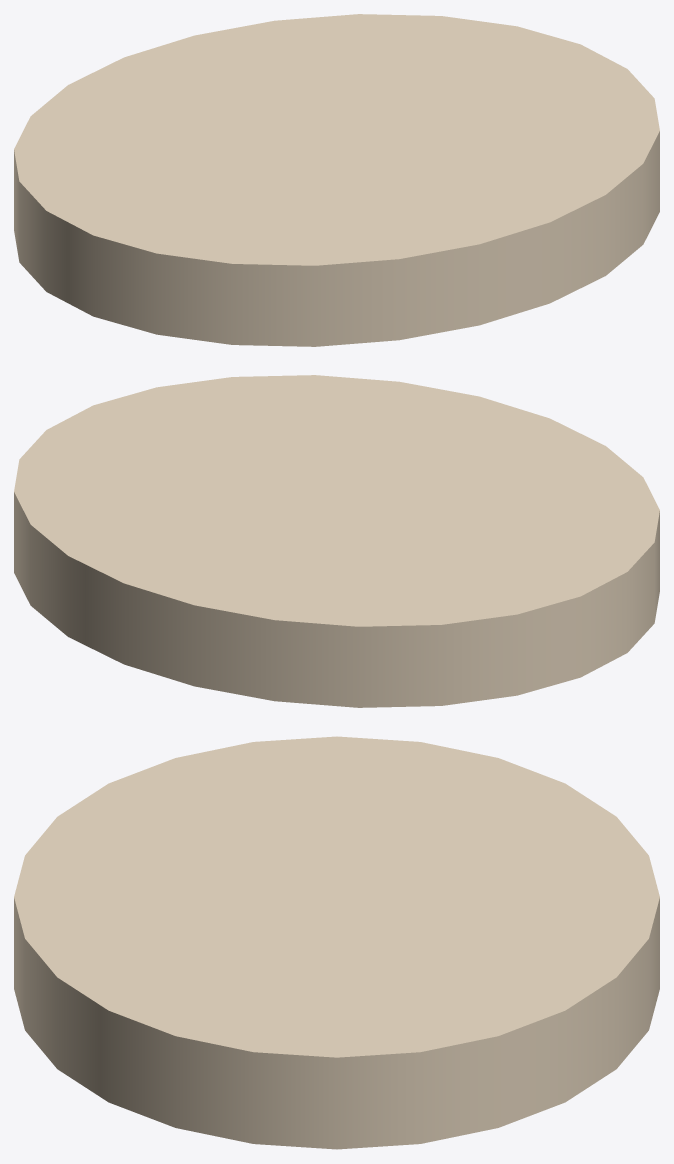
Rendered from detailed_colosseum.gltf.
3 renders of one model, top to bottom at view 1: azimuth 30°, elevation 25°; view 2: azimuth 150°, elevation 25°; view 3: azimuth 270°, elevation 25°, orthographic. The views are drawn at different scales.
Size of what is drawn, in the model's own units: 360 by 48 by 306.
